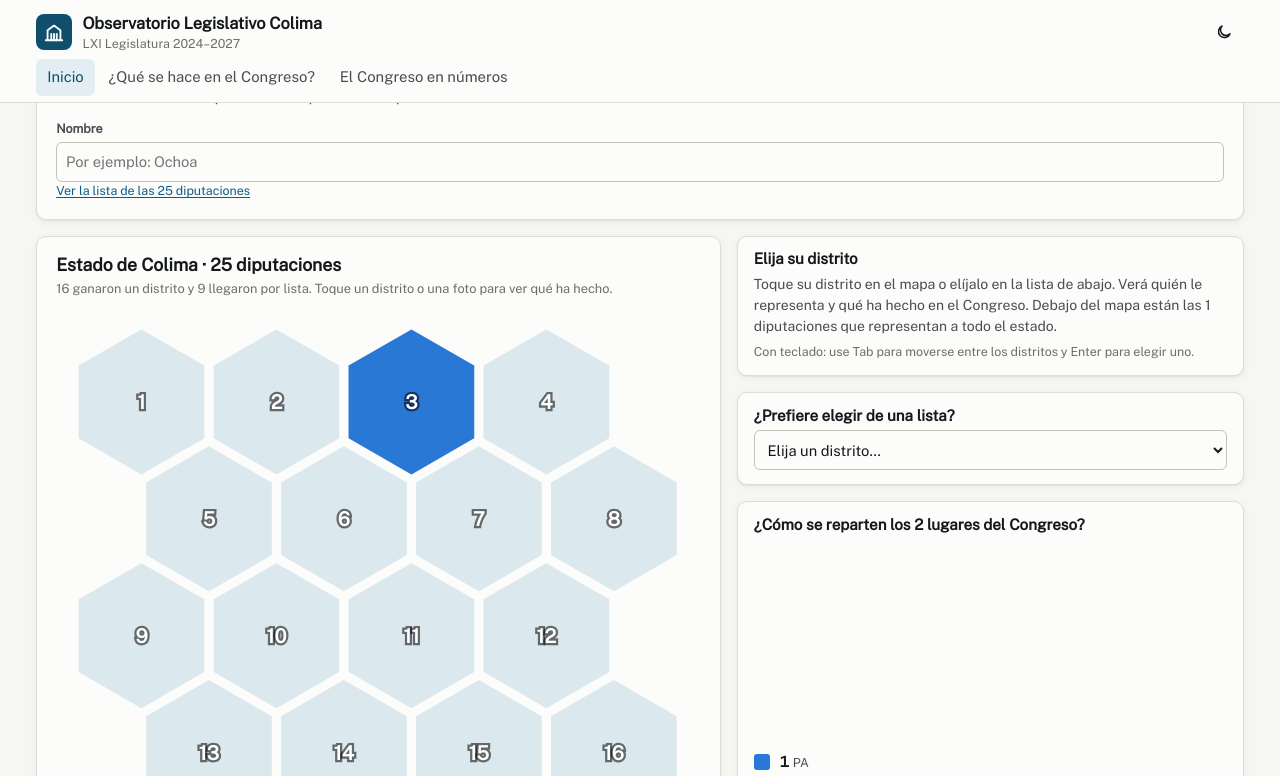
Test: interfaz › el mapa permite seleccionar un distrito desde la lista y restablecer la vista
(page scrolled)
Select "Distrito 3 · Ana Ejemplo (PA)" in the dropdown named "Elegir distrito" at (990,450), box [754, 430, 1227, 470]
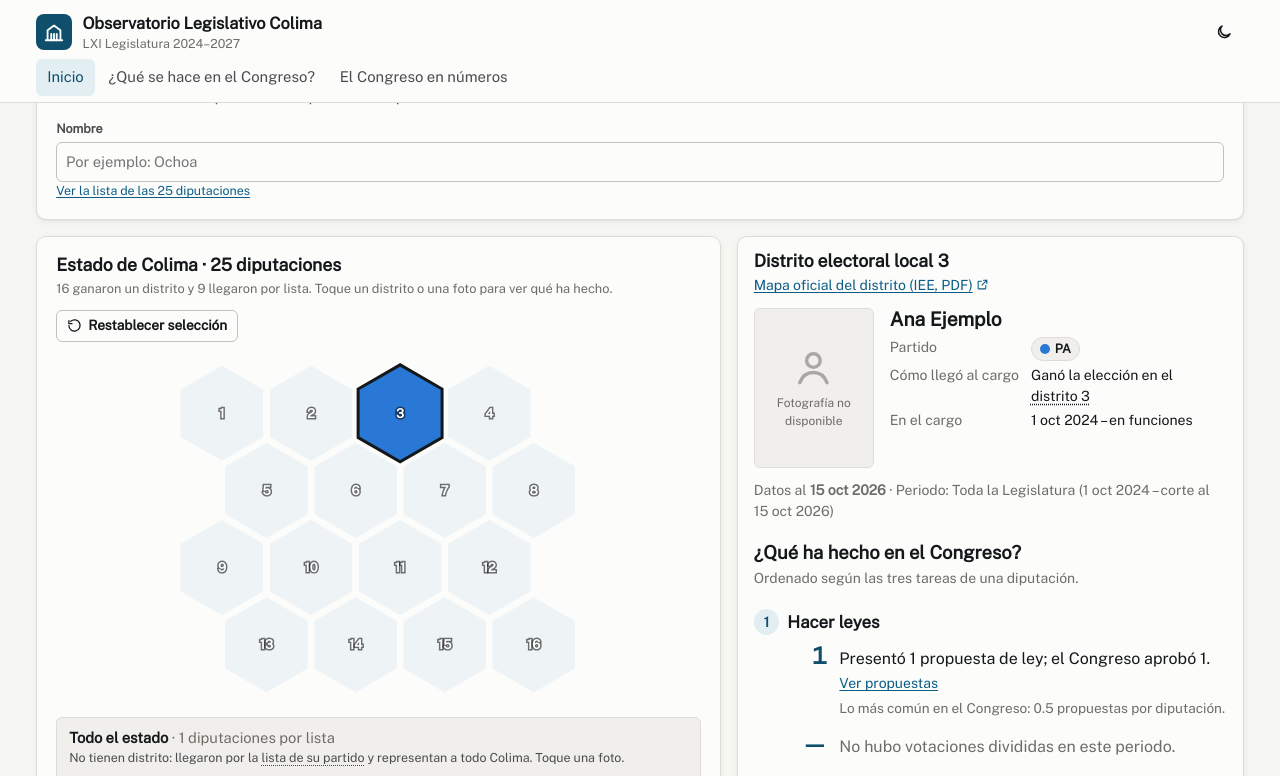
Check: the heading "Ana Ejemplo" is shown, box [890, 308, 1002, 330]
Check: the heading "Distrito electoral local 3" is shown, box [754, 250, 949, 271]
Click the button "Restablecer selección" at (147,326), box [56, 310, 238, 342]
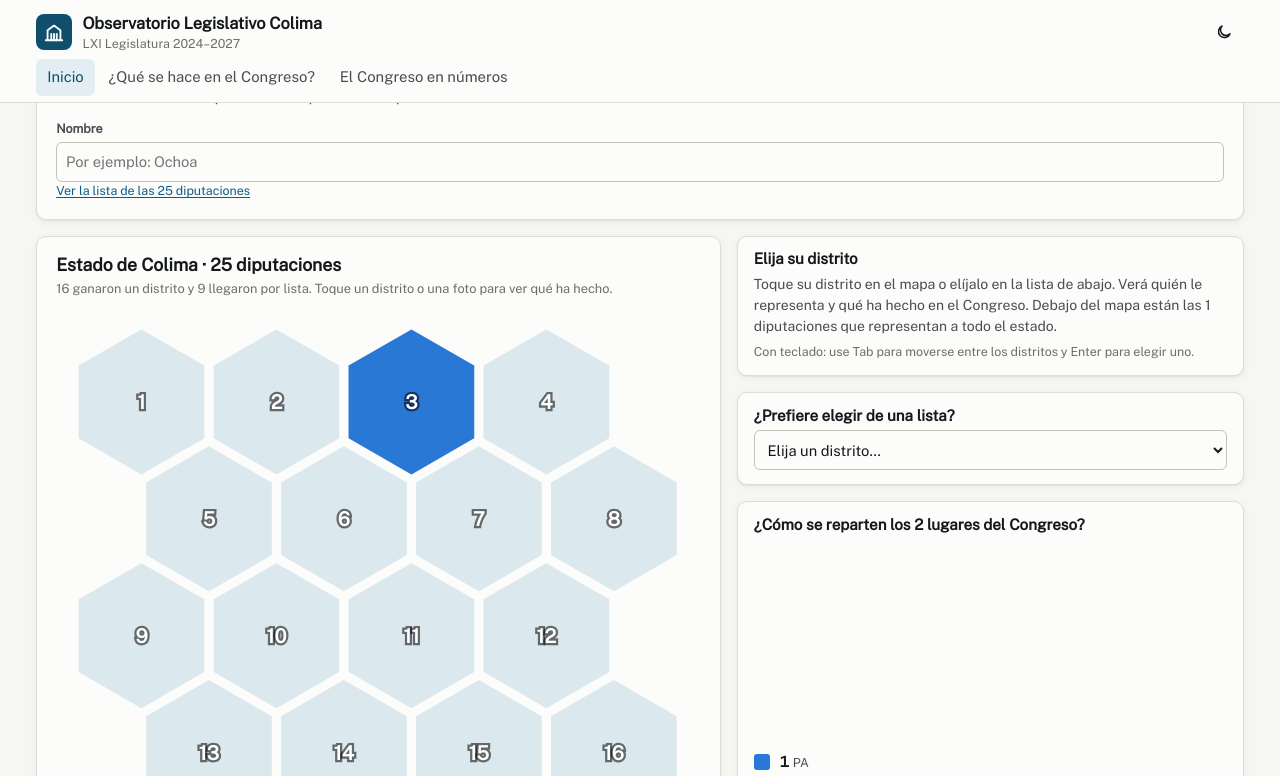
Check: the heading "Elija su distrito" is shown, box [754, 250, 858, 267]
